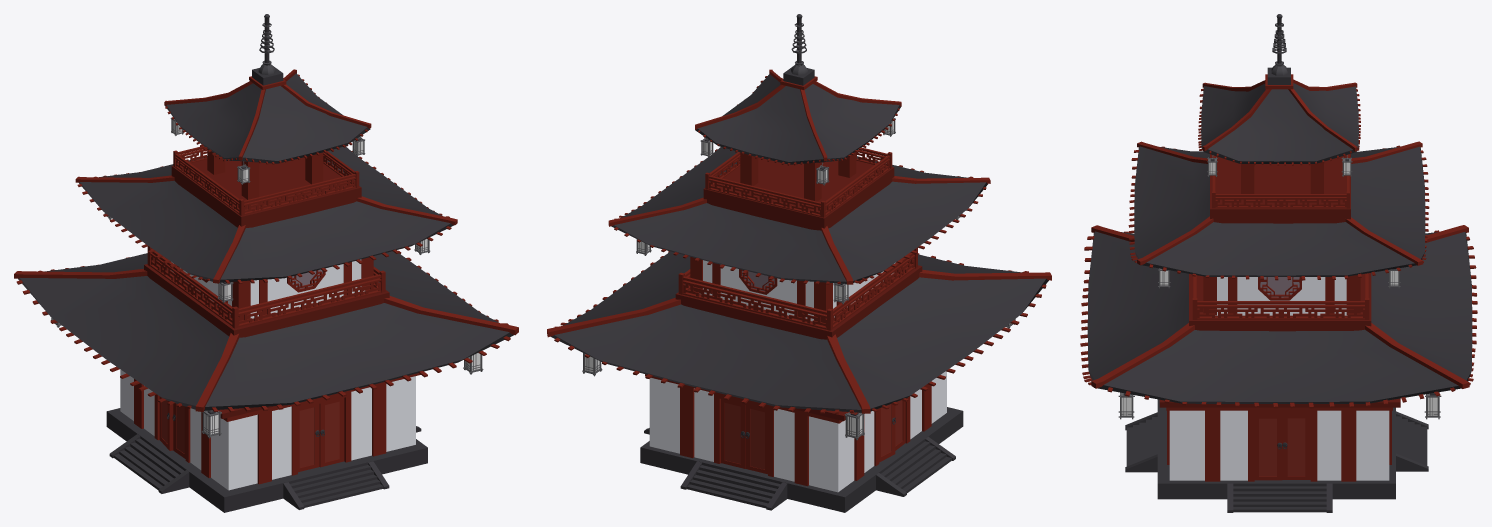
Rendered from houme09.fbx.
The picture shows the model from 3 angles, left to right: view 1: azimuth 30°, elevation 25°; view 2: azimuth 150°, elevation 25°; view 3: azimuth 270°, elevation 25°; orthographic projection.
Visible parts, largest first — view 1: houme_9, fence_9_1, fence_9_2, on_the_roof_9_1, Lantern_9_1, Lantern_9_3; view 2: houme_9, fence_9_1, fence_9_2, on_the_roof_9_1, Lantern_9_1, Lantern_9_3; view 3: houme_9, fence_9_1, fence_9_2, on_the_roof_9_1, Lantern_9_1.
Part boxes in pixels (<box>): houme_9: <box>14,69,518,512</box>; fence_9_1: <box>147,246,385,328</box>; fence_9_2: <box>173,146,359,215</box>; on_the_roof_9_1: <box>252,14,283,85</box>; Lantern_9_1: <box>51,317,483,438</box>; Lantern_9_3: <box>170,117,365,184</box>; houme_9: <box>547,69,1051,512</box>; fence_9_1: <box>678,247,917,330</box>; fence_9_2: <box>705,147,892,217</box>; on_the_roof_9_1: <box>783,14,814,85</box>; Lantern_9_1: <box>582,319,1015,440</box>; Lantern_9_3: <box>700,118,895,185</box>; houme_9: <box>1080,74,1477,512</box>; fence_9_1: <box>1192,273,1369,319</box>; fence_9_2: <box>1212,154,1349,208</box>; on_the_roof_9_1: <box>1267,14,1290,84</box>; Lantern_9_1: <box>1118,392,1441,419</box>.
Bounding box in the file's own units: 1570 × 1902 × 1574.
